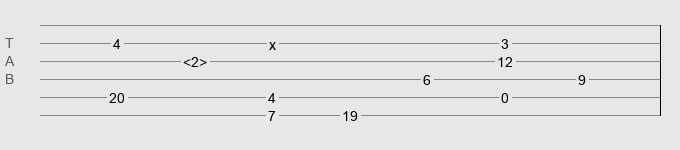0: (501, 90, 509, 100)
12: (497, 54, 513, 64)
19: (342, 108, 358, 118)
20: (109, 90, 125, 100)
3: (501, 36, 509, 46)
4: (113, 36, 121, 46), (268, 90, 276, 100)
6: (423, 72, 431, 82)
7: (268, 108, 276, 118)
9: (578, 72, 586, 82)
harmonic: (183, 54, 207, 64)
x: (269, 37, 276, 45)
